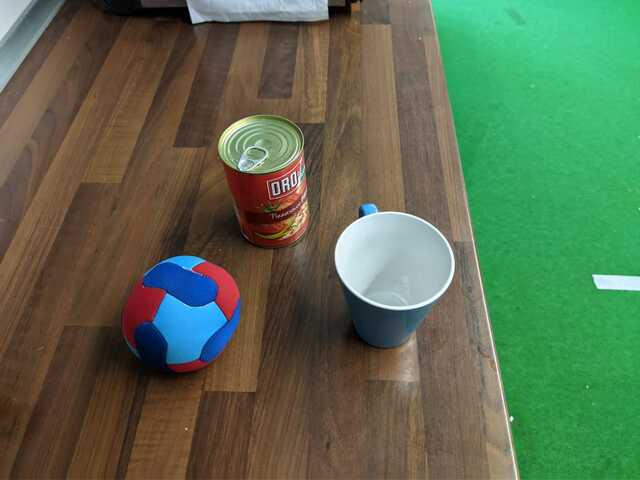005_tomato_soup_can: (213, 111, 313, 252)
025_mug: (329, 198, 460, 353)
057_racquetball: (117, 252, 247, 379)
